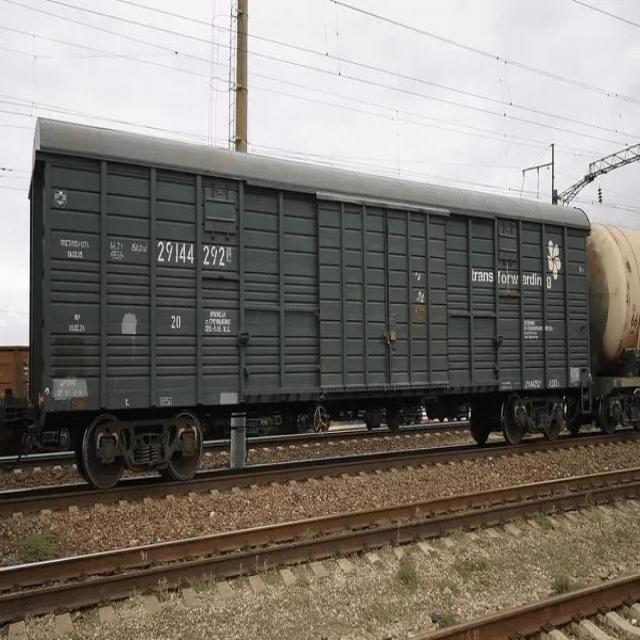boxcar: (23, 106, 596, 496)
tank: (588, 215, 640, 438)
